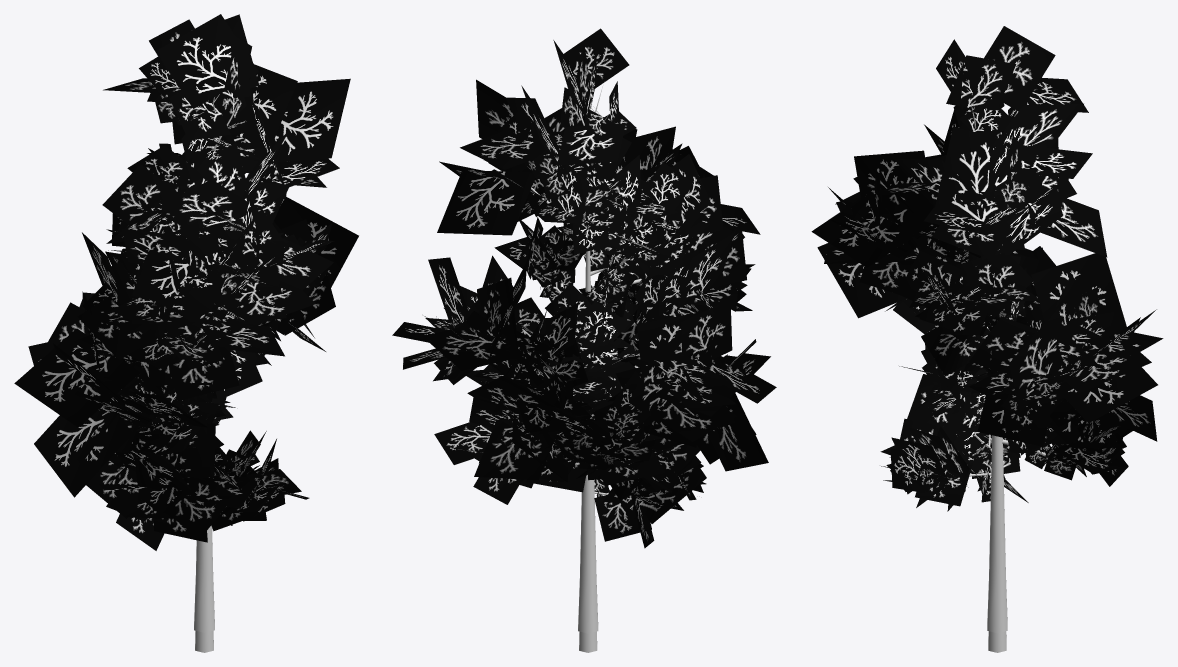
The model's file is Dead Trees.fbx.
3 renders of one model, left to right at view 1: azimuth 30°, elevation 25°; view 2: azimuth 150°, elevation 25°; view 3: azimuth 270°, elevation 25°, orthographic. The views are drawn at different scales.
Visible parts, largest first — view 1: Dead Tree 3 LOD 0, Dead Tree 2 LOD 0, Dead Tree 1 LOD 0; view 2: Dead Tree 3 LOD 0, Dead Tree 1 LOD 0, Dead Tree 2 LOD 0; view 3: Dead Tree 3 LOD 0, Dead Tree 1 LOD 0, Dead Tree 2 LOD 0.
Boxes of the visible parts, box(x1,y1,x2,y2) form: Dead Tree 3 LOD 0: box(14, 14, 358, 652); Dead Tree 2 LOD 0: box(86, 350, 309, 550); Dead Tree 1 LOD 0: box(112, 143, 332, 632); Dead Tree 3 LOD 0: box(392, 28, 776, 652); Dead Tree 1 LOD 0: box(434, 155, 677, 633); Dead Tree 2 LOD 0: box(545, 272, 706, 548); Dead Tree 3 LOD 0: box(811, 26, 1163, 652); Dead Tree 1 LOD 0: box(897, 131, 1128, 633); Dead Tree 2 LOD 0: box(880, 252, 1039, 511).
Size of what is drawn, in the model's own units: 2022 by 3599 by 1843.
